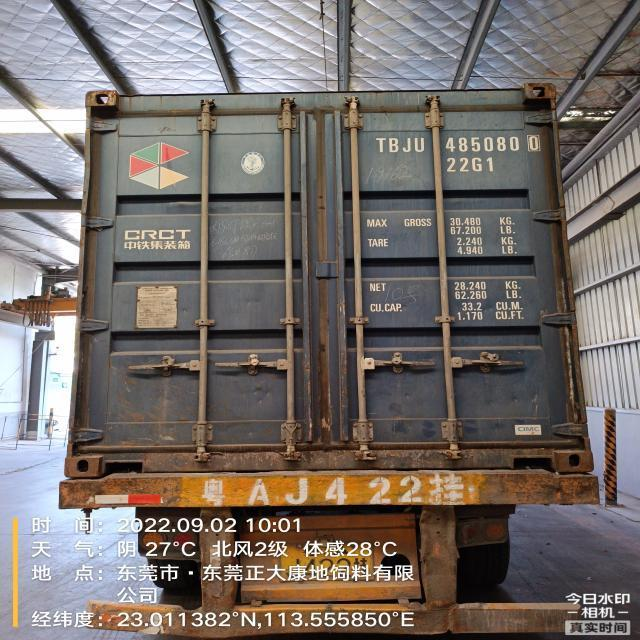ISO: (448, 157, 494, 175)
container_number: (370, 134, 536, 156)
